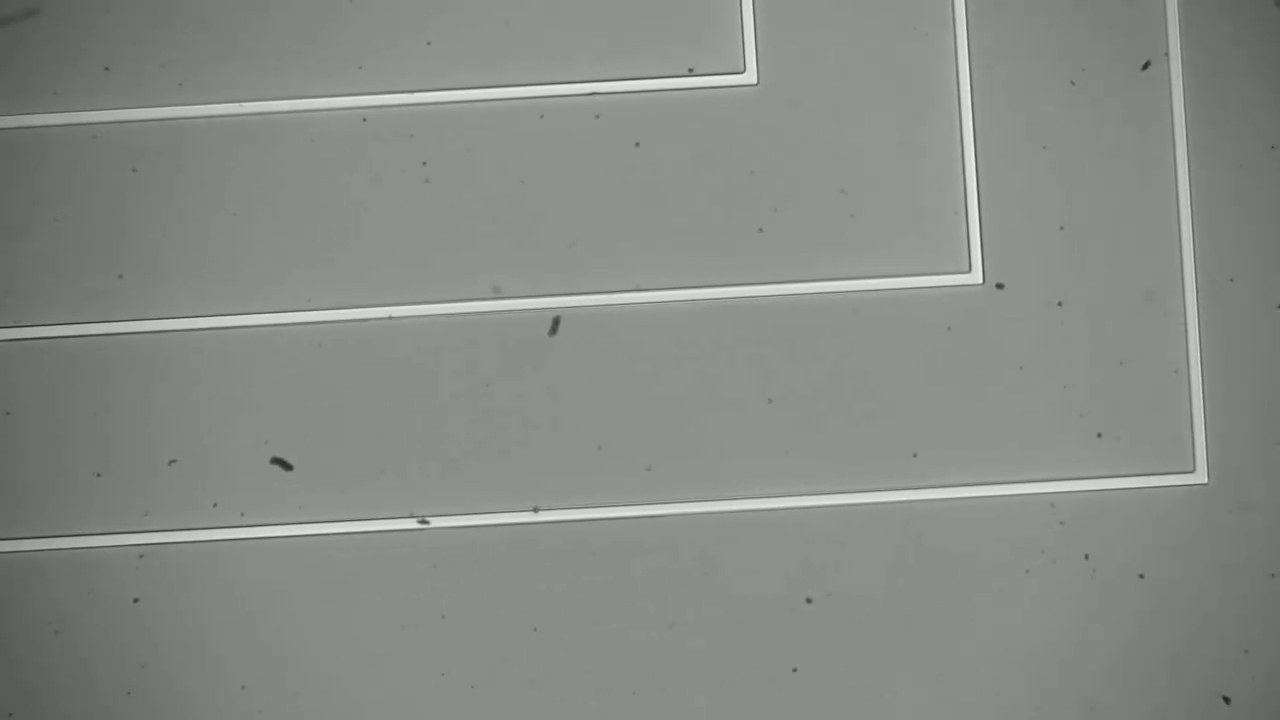stains_enbedded: (406, 506, 444, 540)
